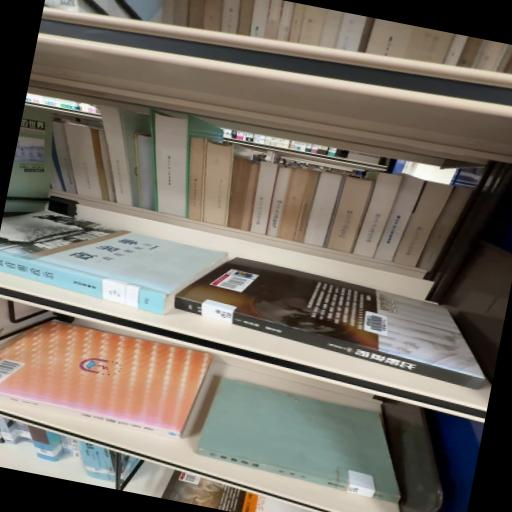flat: (175, 259, 487, 390), (197, 379, 401, 505), (1, 323, 213, 440), (1, 212, 229, 315)
